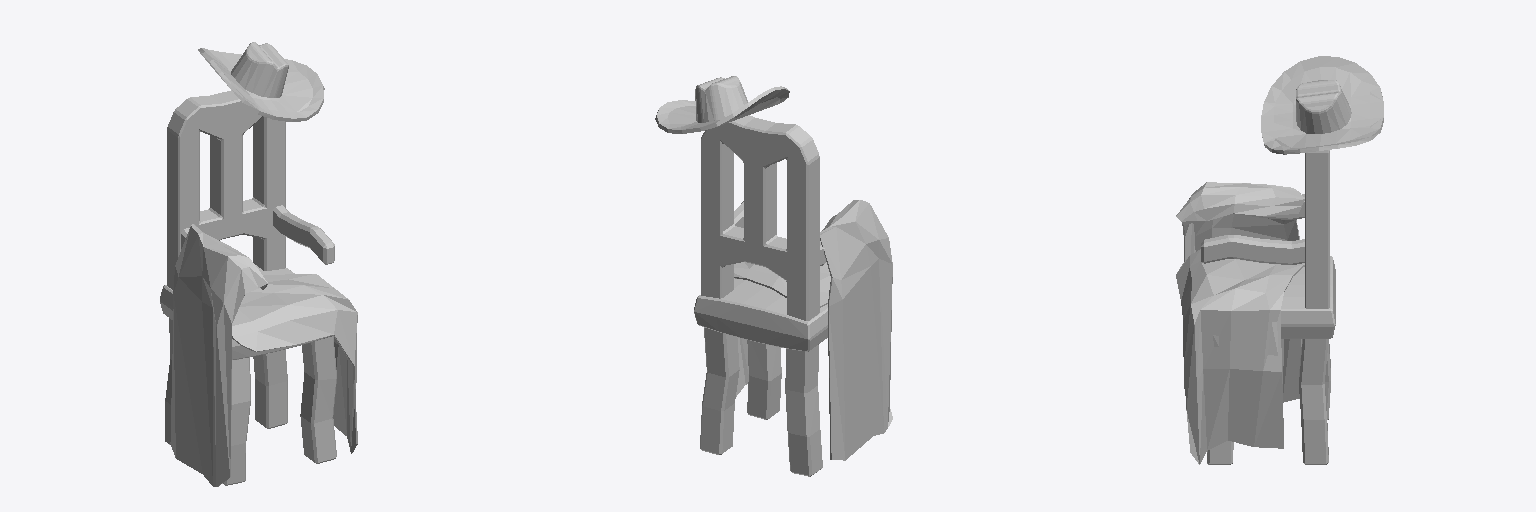
The model's file is Silla.obj.
3 renders of one model, left to right at view 1: azimuth 30°, elevation 25°; view 2: azimuth 150°, elevation 25°; view 3: azimuth 270°, elevation 25°, orthographic.
Visible parts, largest first — view 1: Plane002; view 2: Plane002; view 3: Plane002.
Part boxes in pixels (left/top/right/bottom): Plane002: left=160, top=42, right=357, bottom=486; Plane002: left=655, top=76, right=892, bottom=476; Plane002: left=1176, top=56, right=1383, bottom=464.
Size of the model in its own units: 36.1 by 79.18 by 39.69.